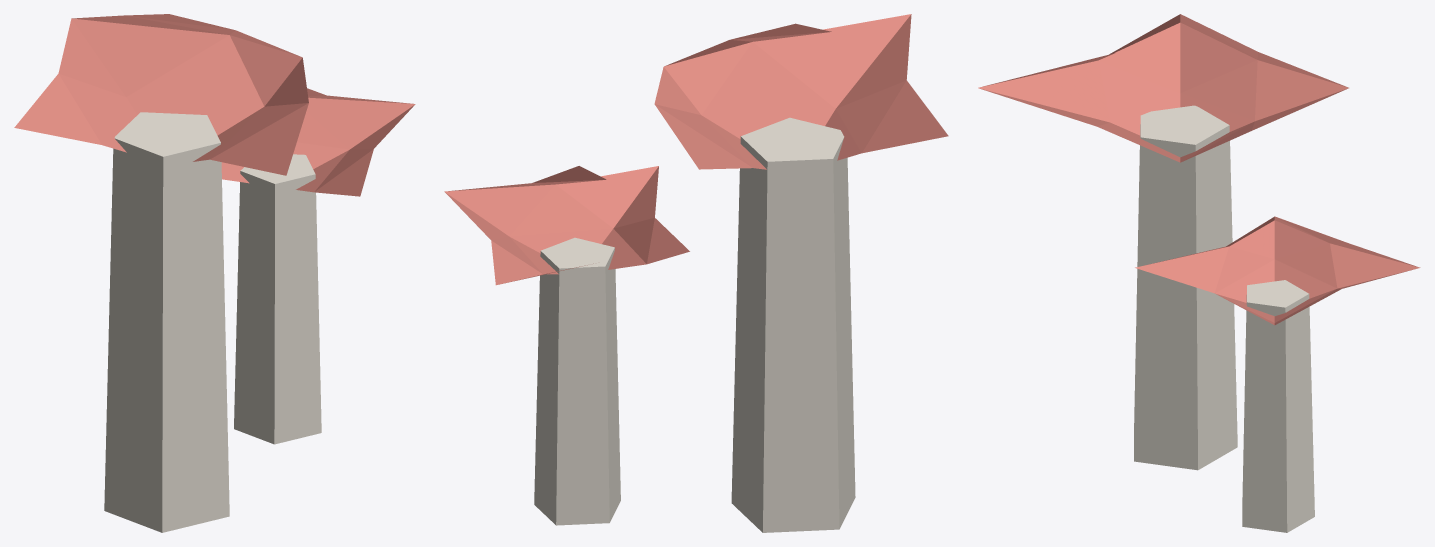
The model's file is mushroom_v28.glb.
The picture shows the model from 3 angles, left to right: view 1: azimuth 30°, elevation 25°; view 2: azimuth 150°, elevation 25°; view 3: azimuth 270°, elevation 25°; orthographic projection. The views are drawn at different scales.
Visible parts, largest first — view 1: lod0; view 2: lod0; view 3: lod0.
Boxes of the visible parts, <box> form: lod0: <box>14,14,415,532</box>; lod0: <box>444,14,948,532</box>; lod0: <box>978,14,1420,532</box>.
Size of what is drawn, in the model's own units: 0.3335 by 0.3431 by 0.3242.
